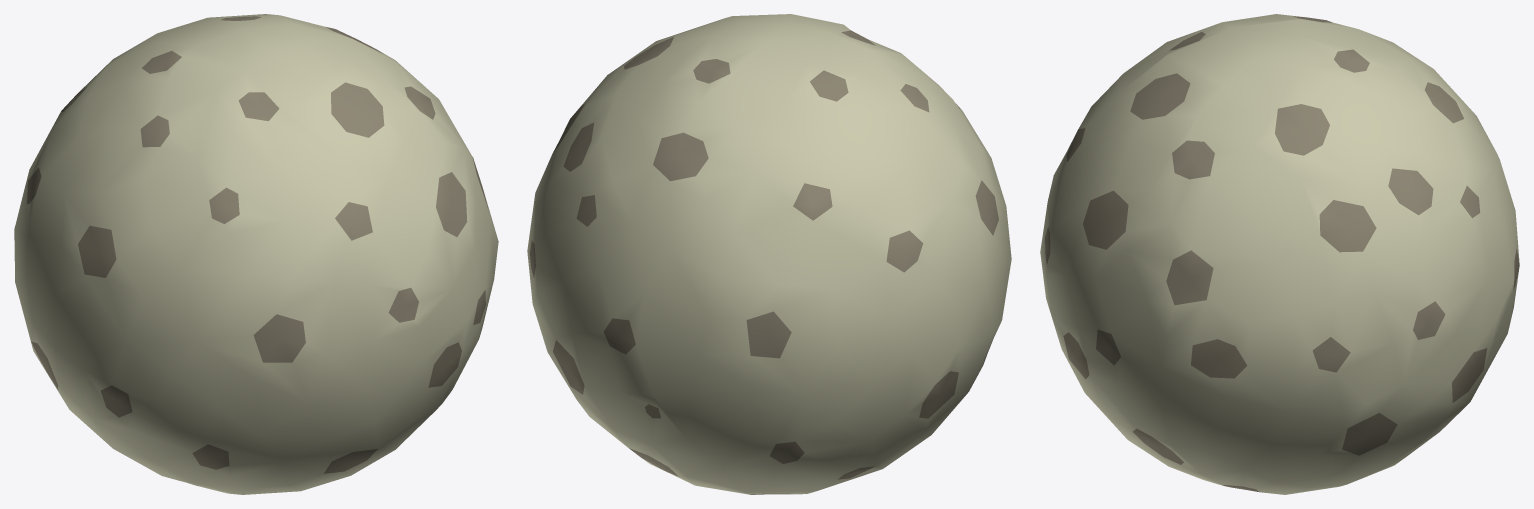
File: Pluto.obj
3 renders of one model, left to right at view 1: azimuth 30°, elevation 25°; view 2: azimuth 150°, elevation 25°; view 3: azimuth 270°, elevation 25°, orthographic.
Visible parts, largest first — view 1: Pluto; view 2: Pluto; view 3: Pluto.
Boxes of the visible parts, x1=… form: Pluto: x1=14, y1=14, x2=498, y2=494; Pluto: x1=527, y1=14, x2=1011, y2=494; Pluto: x1=1040, y1=14, x2=1519, y2=494.
Size of the model in its own units: 16.84 by 16.85 by 16.85.
